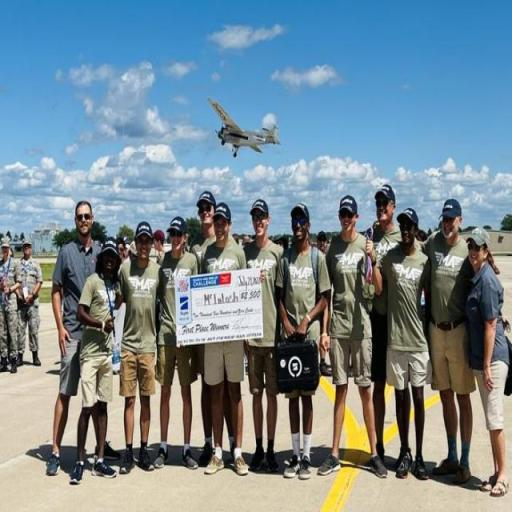uav: (200, 96, 287, 166)
